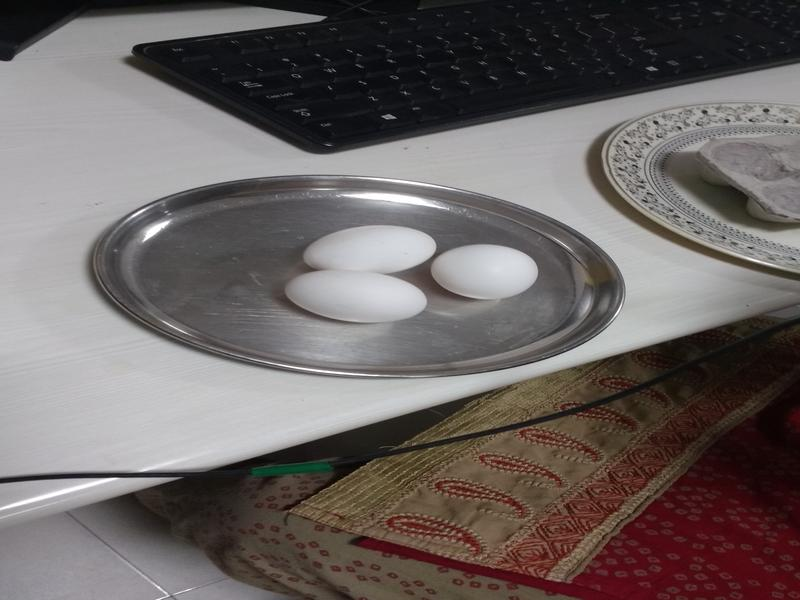egg: (281, 265, 422, 324)
